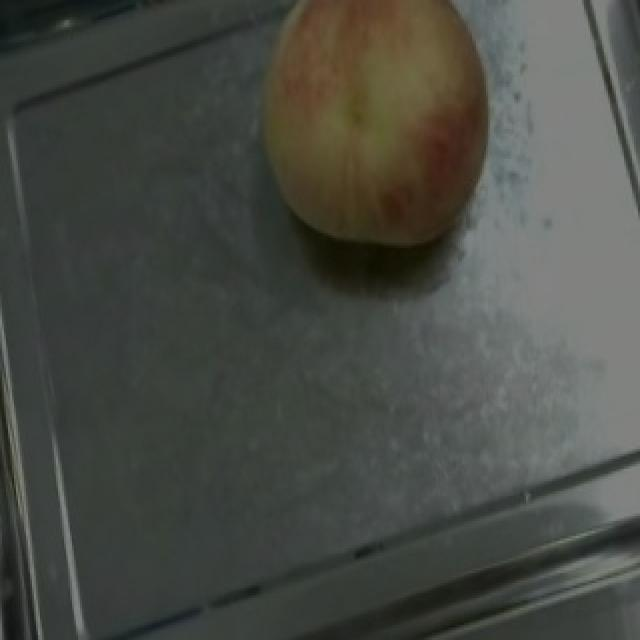Fruit: (216, 0, 528, 290)
